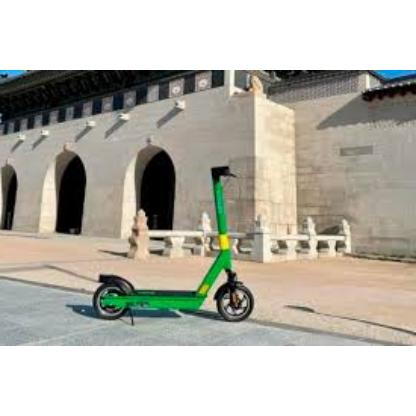bike: (91, 166, 255, 325)
